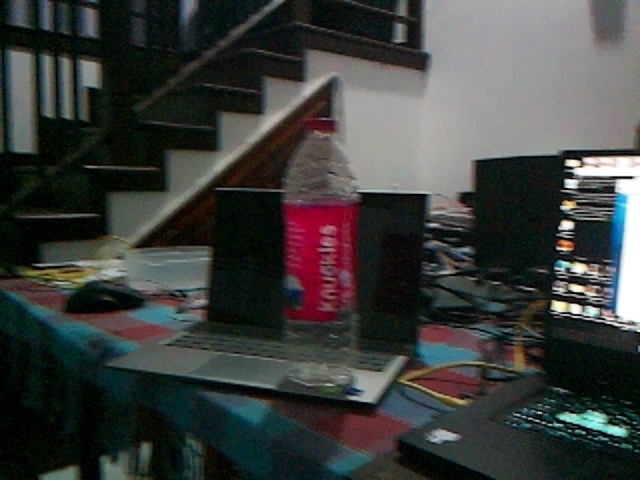bottle: (275, 114, 361, 390)
